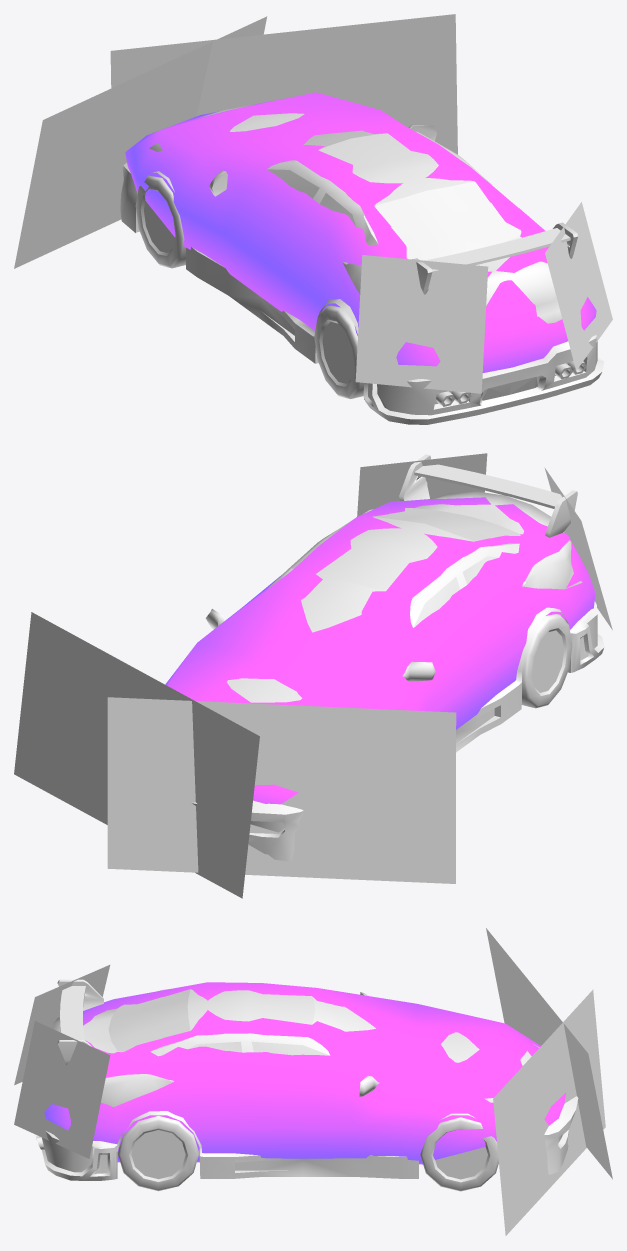
The model's file is BMW.fbx.
3 renders of one model, top to bottom at view 1: azimuth 30°, elevation 25°; view 2: azimuth 150°, elevation 25°; view 3: azimuth 270°, elevation 25°, orthographic. The views are drawn at different scales.
Visible parts, largest first — view 1: BMWProxy, BMWFrontLights, BMWRearLights, BMW, BMWGlass, BMWRearBumper2, BMWWheel_LB, BMWWheel_LF, BMWSpoiler1, BMWFrontBumper2; view 2: BMWFrontLights, BMWProxy, BMW, BMWGlass, BMWRearLights, BMWSpoiler1, BMWWheel_LB, BMWFrontBumper2, BMWRearBumper2; view 3: BMWProxy, BMWFrontLights, BMW, BMWRearLights, BMWGlass, BMWWheel_RB, BMWWheel_RF, BMWRearBumper2, BMWSpoiler1, BMWFrontBumper2.
Part boxes in pixels (x1,y1,x2,y2): BMWProxy: (125,92,596,372); BMWFrontLights: (14,14,457,268); BMWRearLights: (355,202,612,393); BMW: (136,104,562,399); BMWGlass: (267,130,521,264); BMWRearBumper2: (363,335,604,424); BMWWheel_LB: (314,305,363,398); BMWWheel_LF: (135,175,185,268); BMWSpoiler1: (412,222,577,294); BMWFrontBumper2: (120,163,137,232); BMWFrontLights: (14,612,456,898); BMWProxy: (165,497,595,804); BMW: (205,491,582,752); BMWGlass: (281,508,525,632); BMWRearLights: (357,453,612,630); BMWSpoiler1: (399,454,577,537); BMWWheel_LB: (521,614,572,708); BMWFrontBumper2: (192,800,303,861); BMWRearBumper2: (569,601,604,672); BMWProxy: (44,982,565,1164); BMWFrontLights: (486,928,612,1235); BMW: (53,989,539,1178); BMWRearLights: (14,965,110,1158); BMWGlass: (108,989,375,1081); BMWWheel_RB: (118,1116,198,1191); BMWWheel_RF: (420,1117,498,1191); BMWRearBumper2: (35,1131,117,1180); BMWSpoiler1: (57,979,103,1065); BMWFrontBumper2: (544,1096,578,1174).
Bounding box in the file's own units: 3.93 × 5.46 × 1.52.
